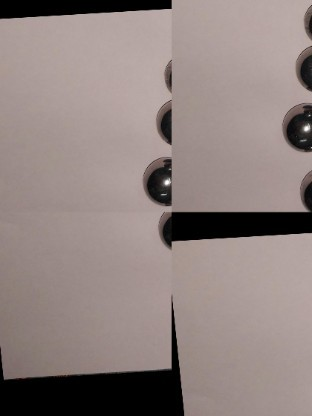ironball: (270, 92, 311, 148), (142, 155, 172, 207), (286, 29, 311, 84), (291, 162, 311, 212), (154, 95, 173, 146), (160, 56, 170, 93)
